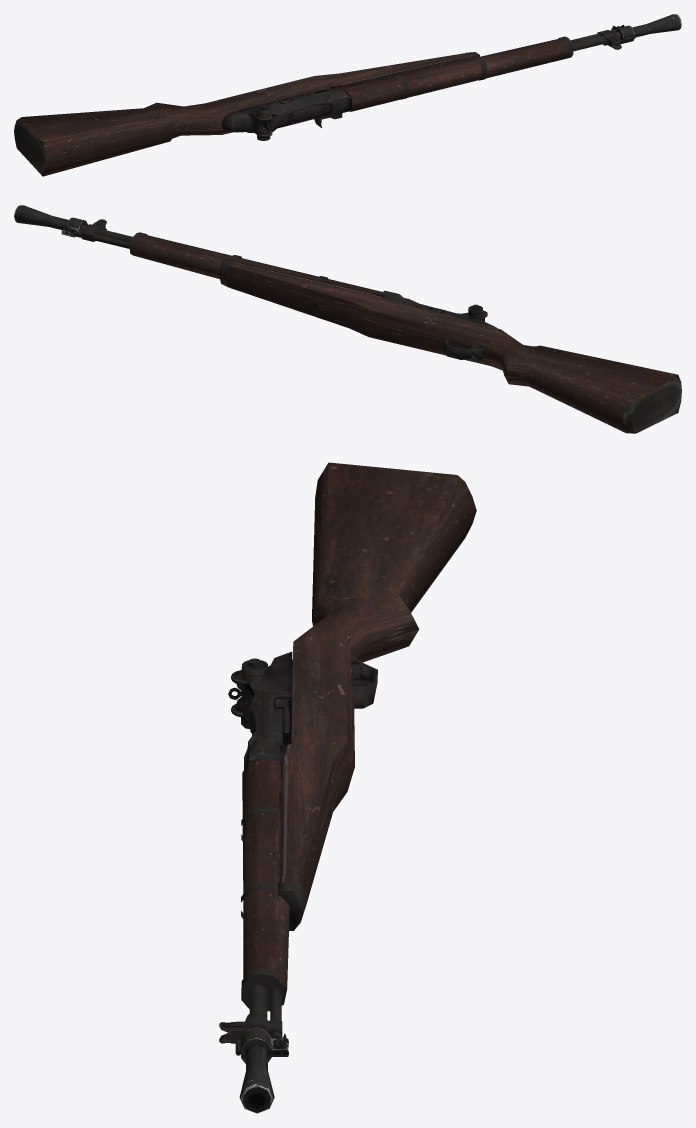
File: weapon_usa_m1garand_rifle_flash_LOD01.obj
3 views of the same model, one above another, from view 1: azimuth 30°, elevation 25°; view 2: azimuth 150°, elevation 25°; view 3: azimuth 270°, elevation 25° (orthographic). The views are drawn at different scales.
Visible parts, largest first — view 1: TomGroup_1, TomGroup_0, TomGroup_2; view 2: TomGroup_1, TomGroup_0, TomGroup_2; view 3: TomGroup_1, TomGroup_0, TomGroup_2.
Boxes of the visible parts, x1,y1,x2,y2 form: TomGroup_1: (17,38,569,176); TomGroup_0: (14,30,621,176); TomGroup_2: (611,14,681,43); TomGroup_1: (129,234,677,433); TomGroup_0: (61,219,681,433); TomGroup_2: (14,205,88,237); TomGroup_1: (242,462,476,1011); TomGroup_0: (219,651,377,1056); TomGroup_2: (235,1027,288,1113).
Size of the model in its own units: 117 by 7.24 by 21.22.
Materials: 3 (3 with a texture image).
